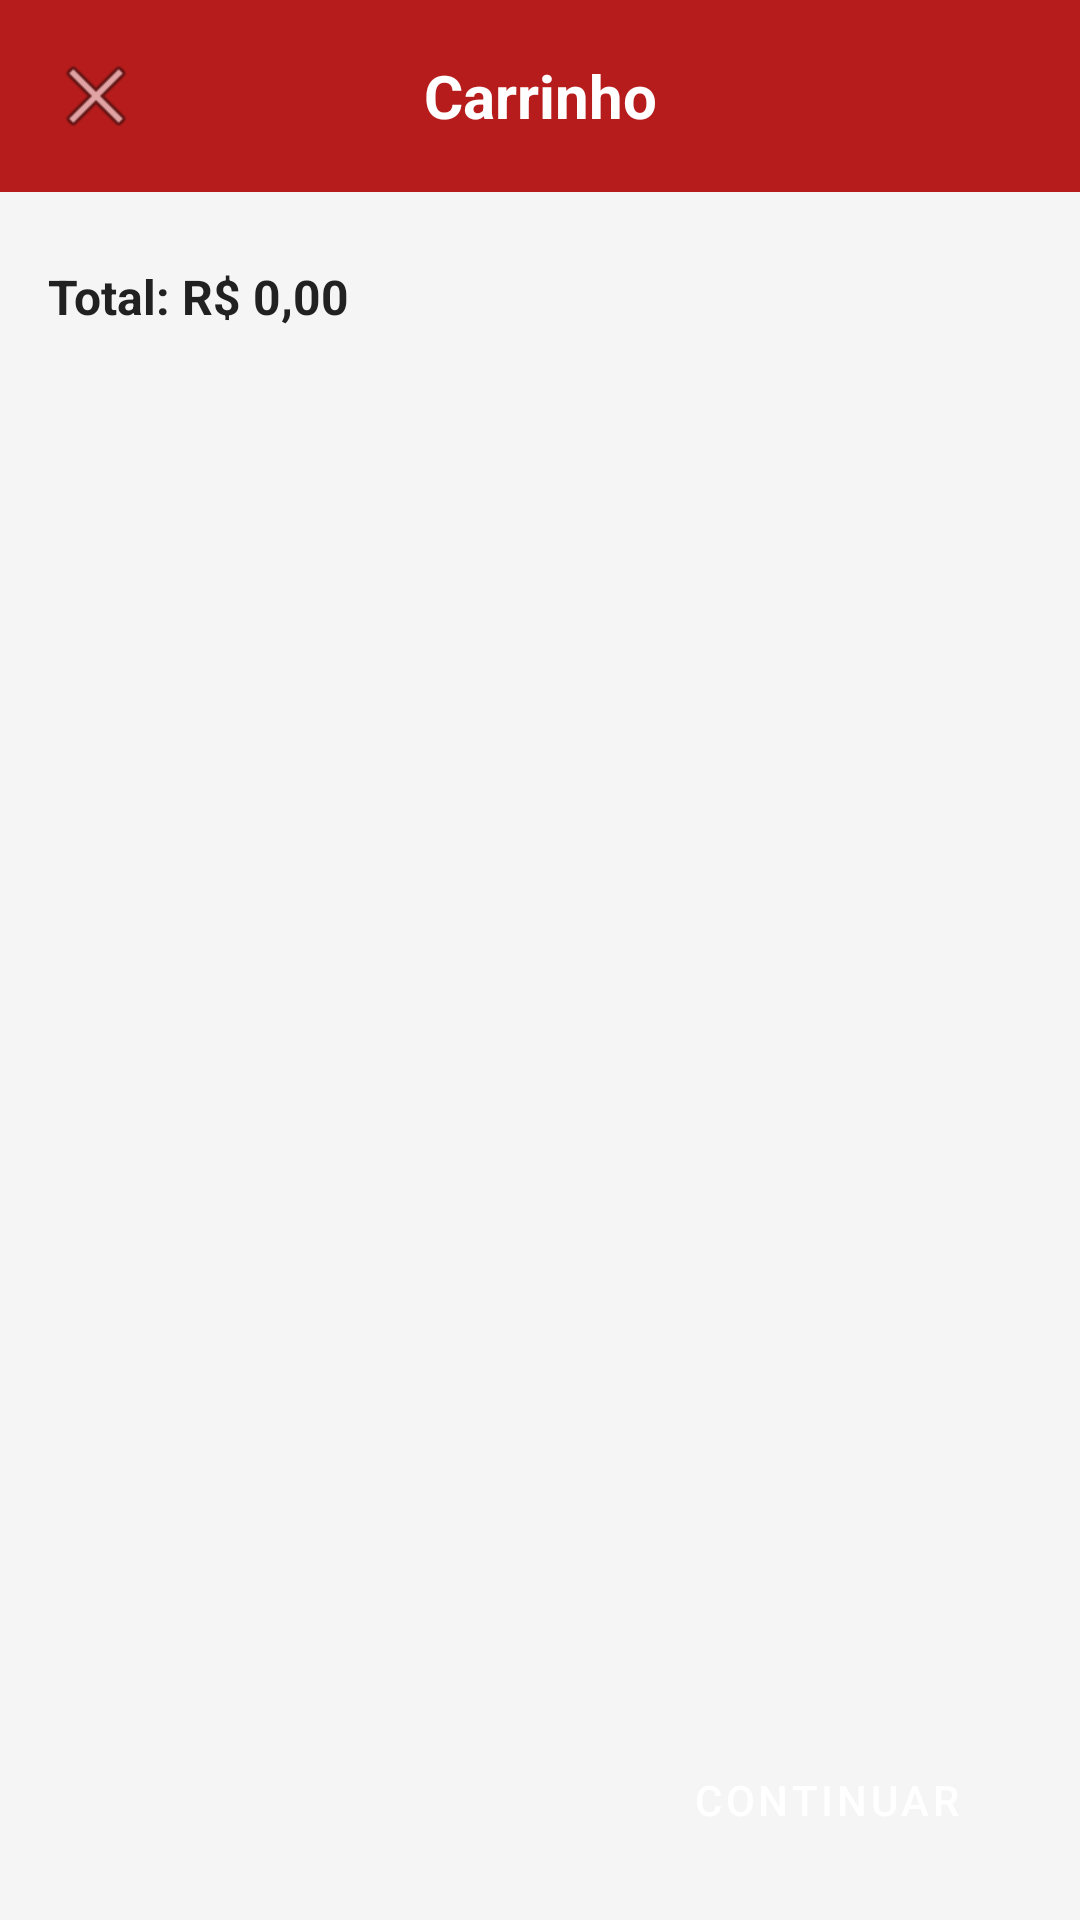

Locate icon controls on the screen. Image size 1080 x 1920, boxes as (x1, y1, x2, y2).
Voltar: (66, 66, 126, 126)
